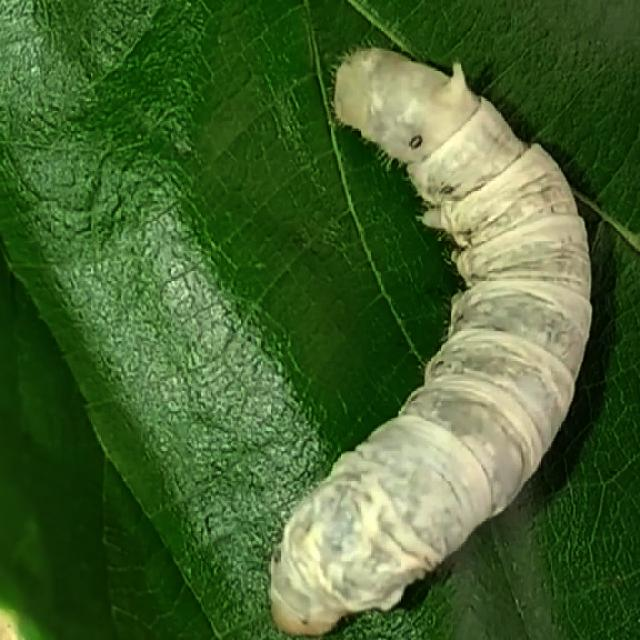Grasserie: (267, 36, 595, 633)
